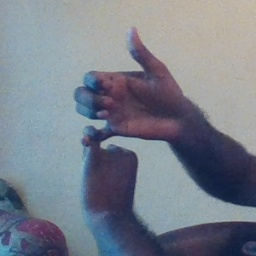S: (64, 23, 174, 201)
